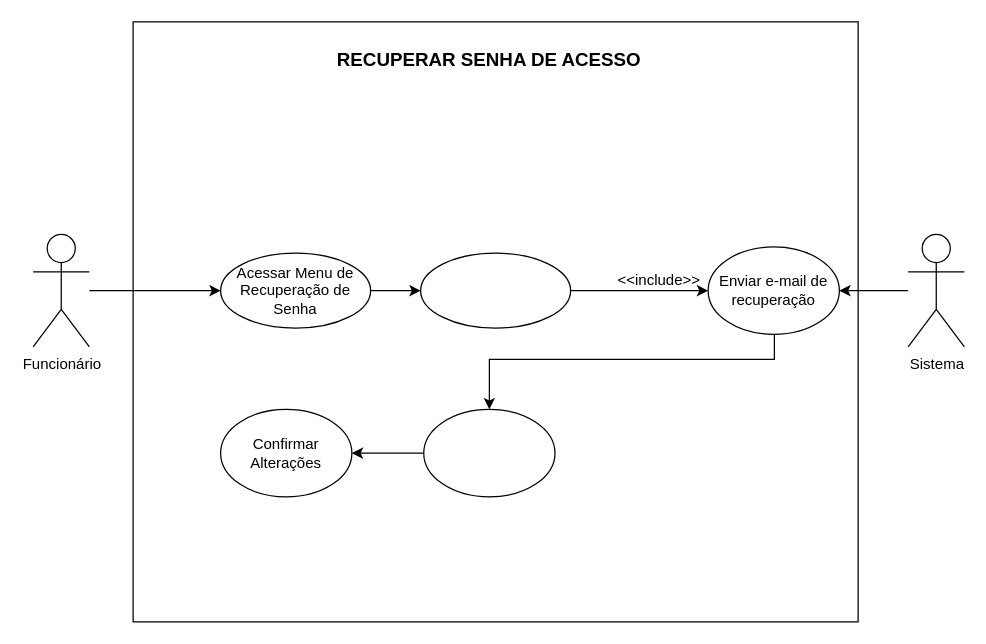
The diagram is 986 pixels wide and 644 high, and some of its shapes have lost their labels. Each missing label, with the centre of its shape:
"Inserir e-mail de recuperação" belongs at (x=495, y=290).
"Inserir senha nova" belongs at (x=488, y=452).
